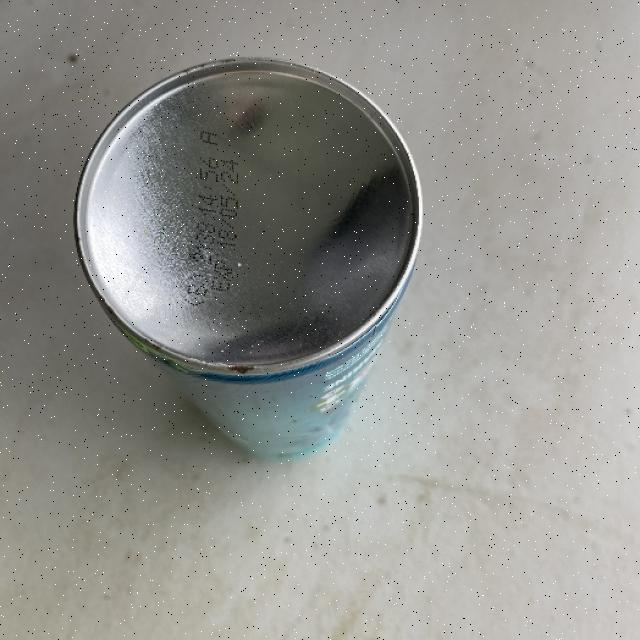metal: (72, 55, 422, 459)
